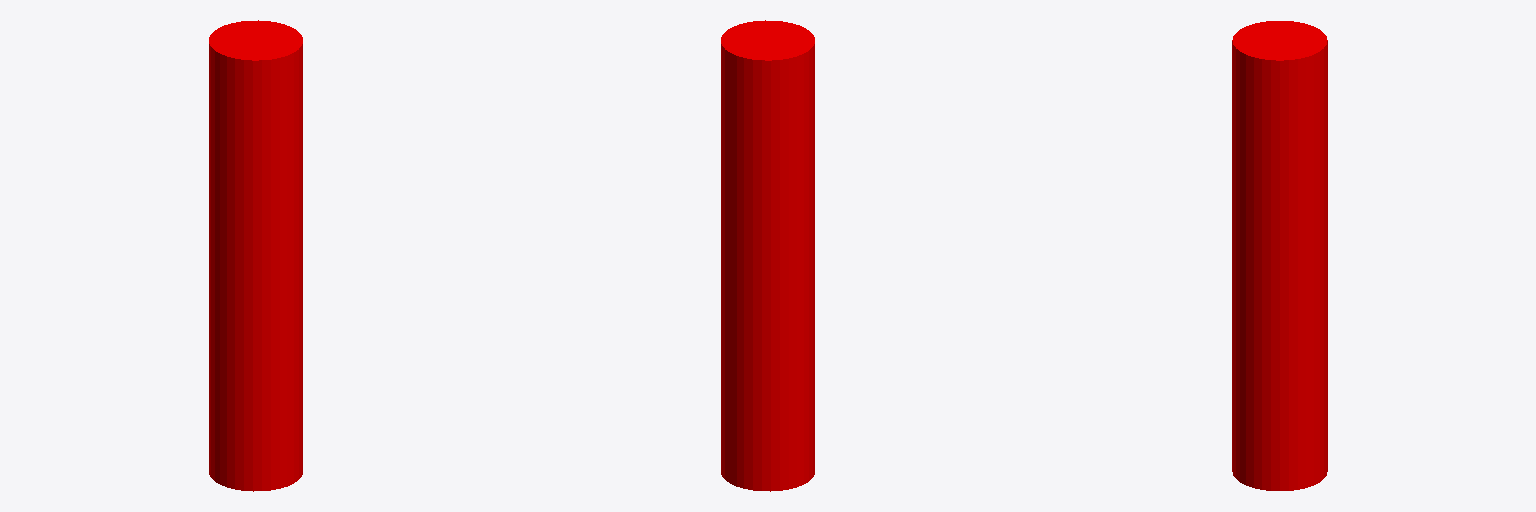
The robot description file, URDF, robot "simple_tool":
<?xml version="1.0" ?>
<robot name="simple_tool">
  <link name="tool_base_link">
    <visual>
      <geometry>
        <cylinder length="0.2" radius="0.02"/>
      </geometry>
      <origin rpy="0 0 0" xyz="0 0 0.1"/>
      <material name="red">
        <color rgba="1 0 0 1"/>
      </material>
    </visual>
    <collision>
      <geometry>
        <cylinder length="0.2" radius="0.02"/>
      </geometry>
      <origin rpy="0 0 0" xyz="0 0 0.1"/>
    </collision>
  </link>
  <link name="tool_tip_link"></link>
  <joint name="tool_base_to_tip" type="fixed">
    <parent link="tool_base_link"/>
    <child link="tool_tip_link"/>
    <origin rpy="0 0 0" xyz="0 0 0.2"/>
  </joint>
</robot>

--- Facts derived from the render (not from the file) ---
The picture shows the robot from 3 angles, left to right: view 1: azimuth 30°, elevation 25°; view 2: azimuth 150°, elevation 25°; view 3: azimuth 270°, elevation 25°; orthographic projection.
Model simple_tool with 2 links and 1 joints (1 fixed), rooted at tool_base_link, posed every joint at zero.
Links seen in each view (by area): view 1: tool_base_link; view 2: tool_base_link; view 3: tool_base_link.
Link boxes in pixels (x1,y1,x2,y2): tool_base_link: (209, 20, 302, 491); tool_base_link: (721, 20, 814, 491); tool_base_link: (1232, 21, 1327, 490).
Bounding box of the posed robot: 0.04 × 0.04 × 0.2 m (x, y, z).
Geometry: primitives only (box / cylinder / sphere), no mesh files.